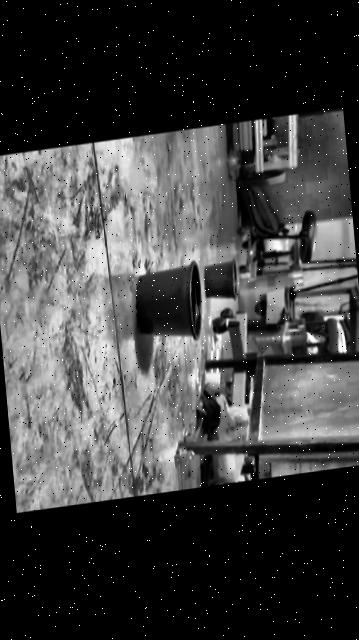pot: (132, 261, 206, 348), (202, 260, 238, 306)
